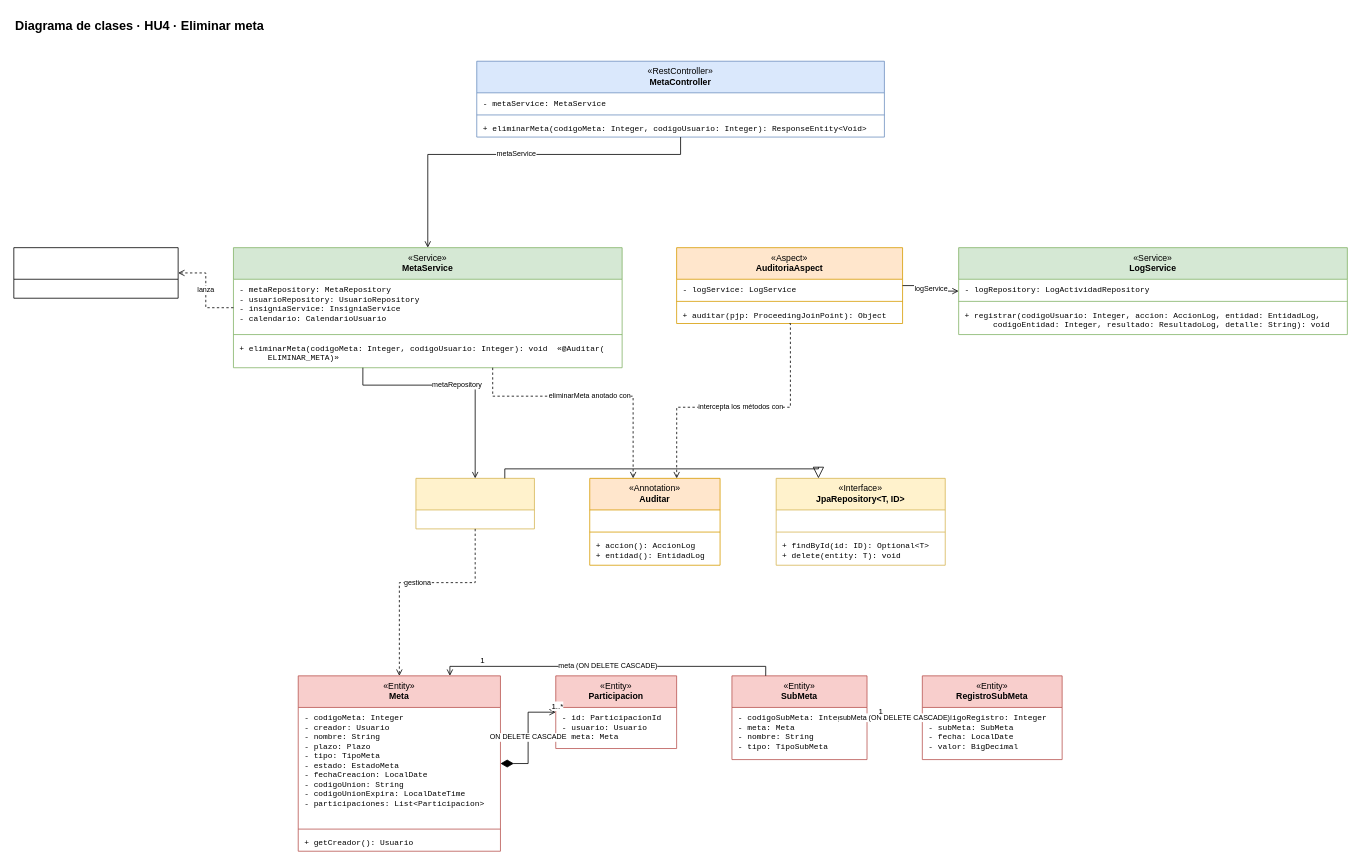
This 1361x867 diagram has some shape labels left out. Here are the shapes that lost their labels. From the top down, the centre of each, then its label:
At (95,272): "«Class» PermisoDenegadoException".
At (474,503): "«Repository» MetaRepository".
